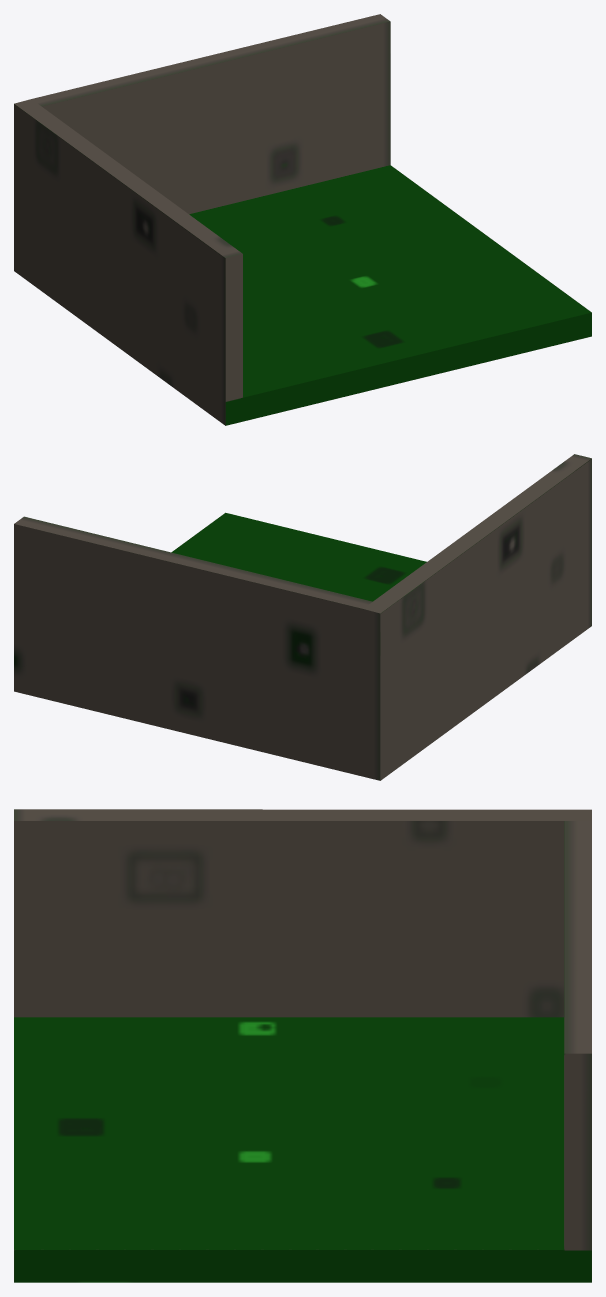
File: yard_8x8_with_corner_00.glb
The picture shows the model from 3 angles, top to bottom: view 1: azimuth 30°, elevation 25°; view 2: azimuth 150°, elevation 25°; view 3: azimuth 270°, elevation 25°; orthographic projection. The views are drawn at different scales.
Parts seen in each view (by area): view 1: yard_8x8_with_corner_00; view 2: yard_8x8_with_corner_00; view 3: yard_8x8_with_corner_00.
Boxes of the visible parts, x1,y1,x2,y2 form: yard_8x8_with_corner_00: [14, 14, 591, 425]; yard_8x8_with_corner_00: [14, 454, 591, 780]; yard_8x8_with_corner_00: [14, 809, 591, 1282].
Size of what is drawn, in the model's own units: 8 by 3.5 by 8.
1 material, 1 textured.
